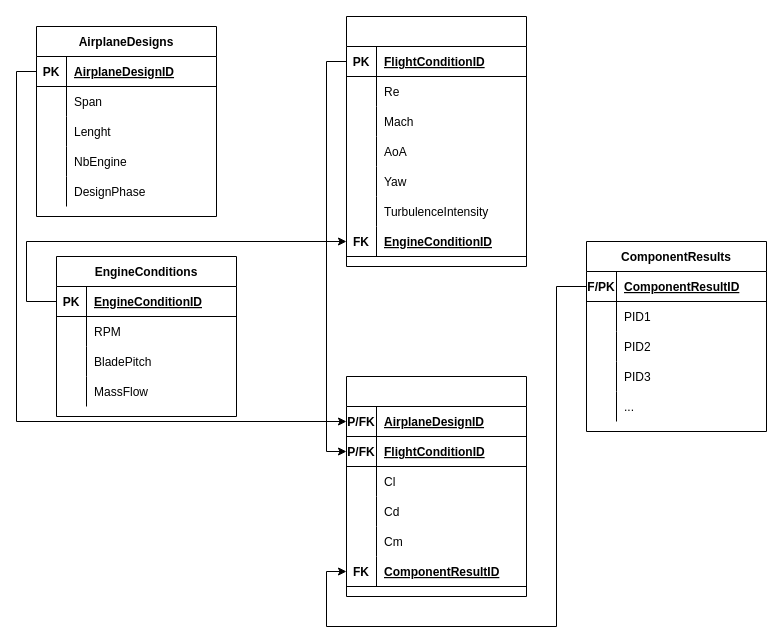
Image size: 783x643. Some labels were removed from this diagram. Each missing label, with the box of its shape:
FlightConditions: (346, 16, 526, 266)
OverallAeroResults: (346, 376, 526, 596)
